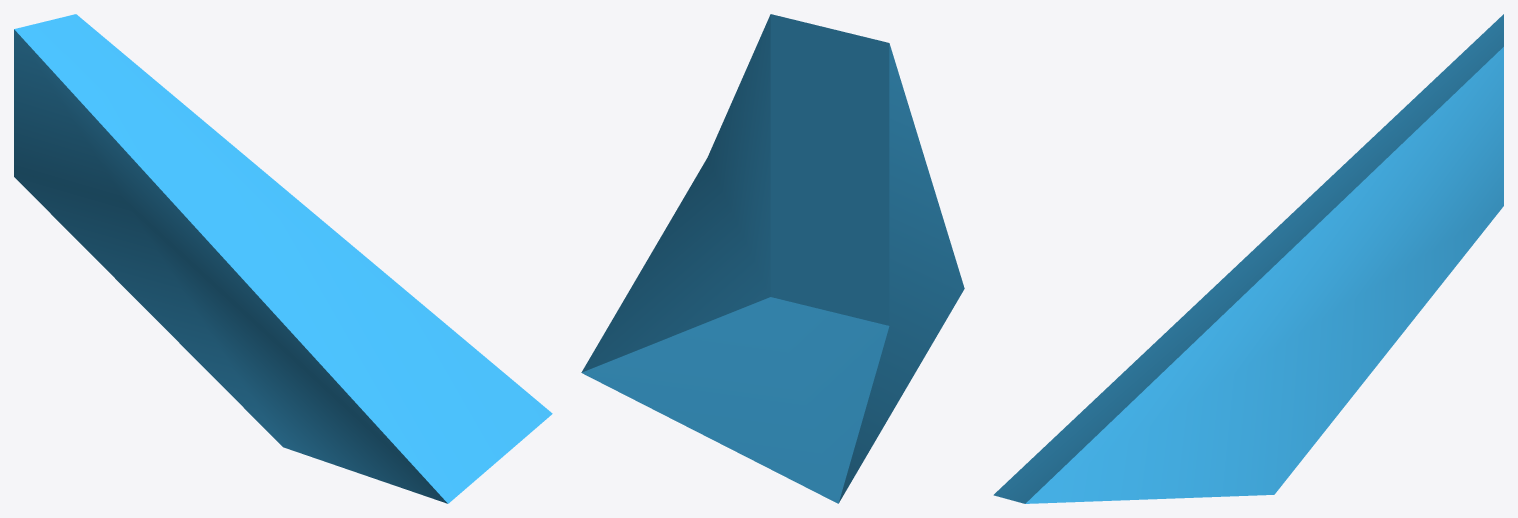
The picture shows the model from 3 angles, left to right: view 1: azimuth 30°, elevation 25°; view 2: azimuth 150°, elevation 25°; view 3: azimuth 270°, elevation 25°; orthographic projection. The views are drawn at different scales.
Visible parts, largest first — view 1: Cube; view 2: Cube; view 3: Cube.
Part boxes in pixels (bbox=[...]): Cube: bbox=[14, 14, 552, 503]; Cube: bbox=[581, 14, 964, 503]; Cube: bbox=[993, 14, 1503, 503].
Size of the model in its own units: 2826 by 3114 by 3656.
